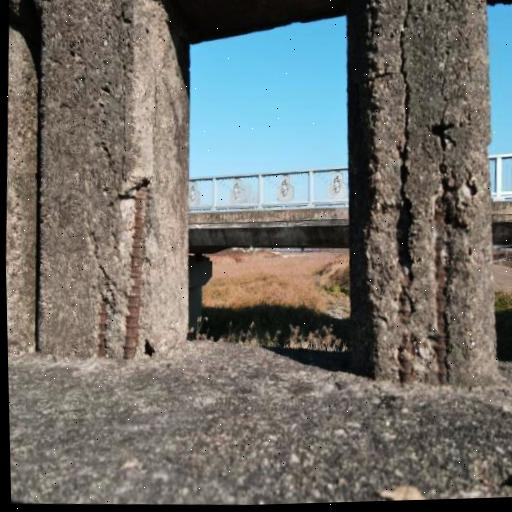exposed_rebar: (123, 186, 146, 358), (395, 198, 415, 386), (433, 185, 447, 384), (97, 299, 107, 355)
